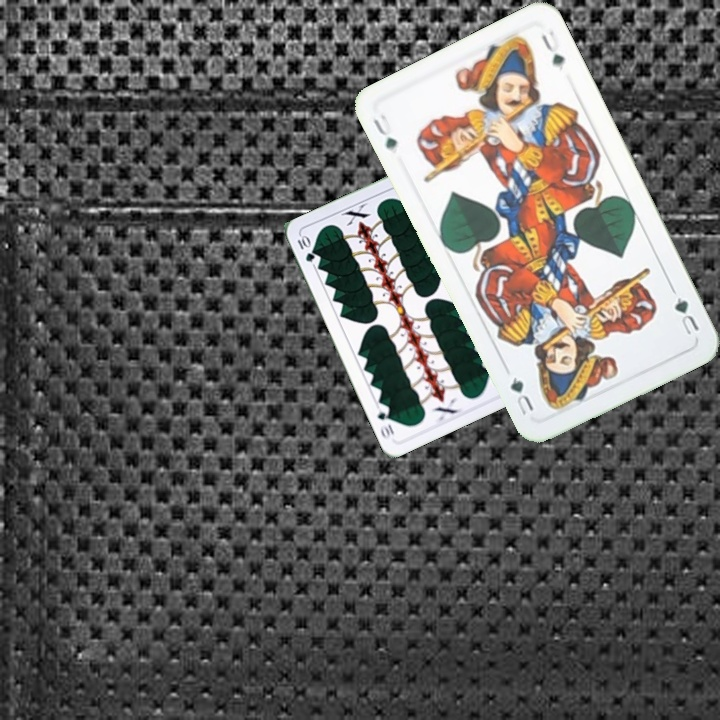G10: (293, 231, 317, 265)
GU: (670, 293, 702, 338), (369, 110, 400, 153)
